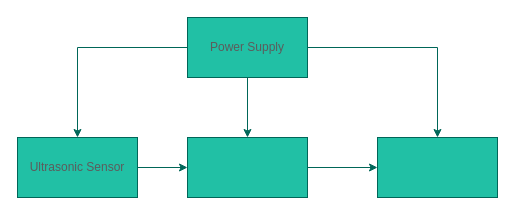
Some shapes in this 515 by 215 pixel diagram are drawn without their labels. Here are the shapes that lost their labels. From the top down, the centre of each, then its label:
At [247,167]: "MicroController Atmega328".
At [437,167]: "Buzzer".
